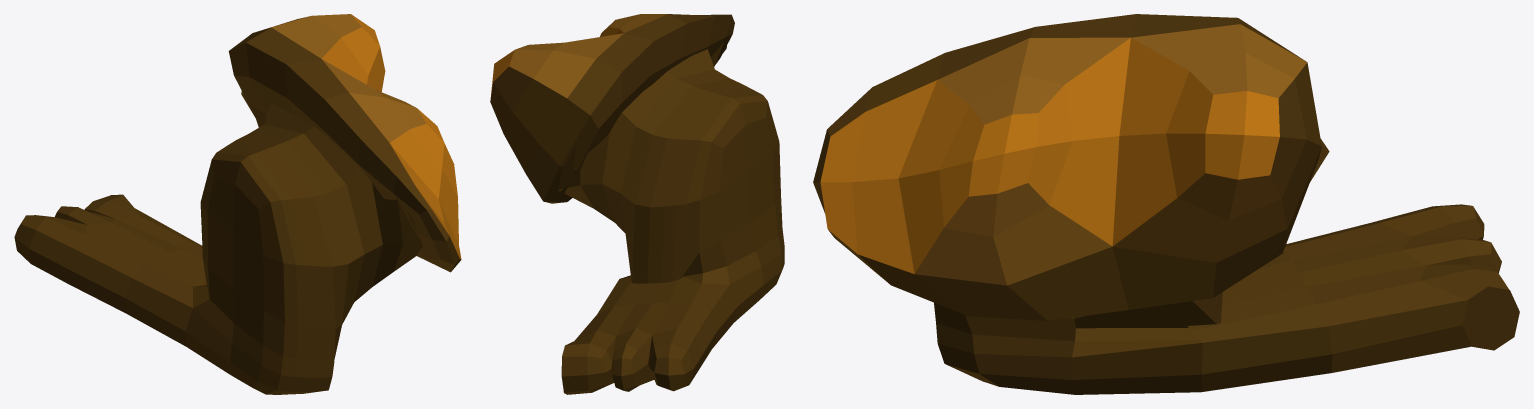
File: peanutbuttertoadleg.fbx
The picture shows the model from 3 angles, left to right: view 1: azimuth 30°, elevation 25°; view 2: azimuth 150°, elevation 25°; view 3: azimuth 270°, elevation 25°; orthographic projection. The views are drawn at different scales.
Visible parts, largest first — view 1: Cube; view 2: Cube; view 3: Cube.
Boxes of the visible parts, left/top/right/bottom form: Cube: left=14, top=14, right=461, bottom=394; Cube: left=490, top=14, right=784, bottom=394; Cube: left=813, top=14, right=1519, bottom=394.
Size of the model in its own units: 410 by 400 by 649.
